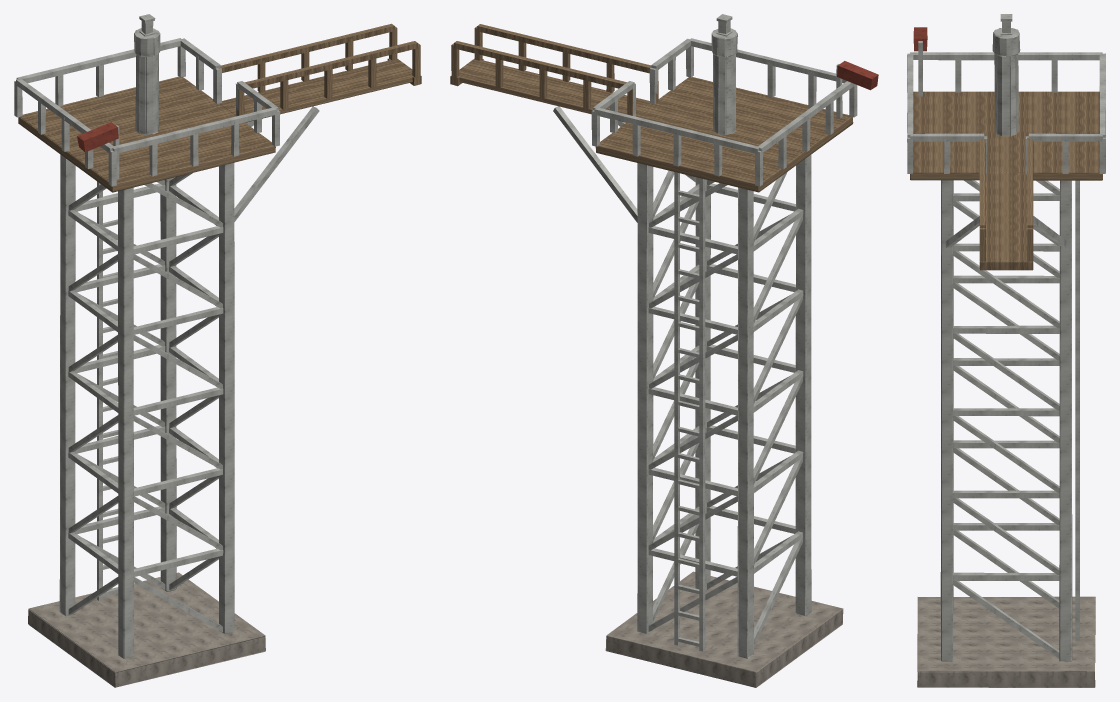
The model's file is zeppelin_dock.glb.
The picture shows the model from 3 angles, left to right: view 1: azimuth 30°, elevation 25°; view 2: azimuth 150°, elevation 25°; view 3: azimuth 270°, elevation 25°; orthographic projection. The views are drawn at different scales.
Visible parts, largest first — view 1: ZeppelinDock, Gangway; view 2: ZeppelinDock, Gangway; view 3: ZeppelinDock, Gangway.
Boxes of the visible parts, <box> form: ZeppelinDock: <box>14,14,319,687</box>; Gangway: <box>213,23,421,122</box>; ZeppelinDock: <box>553,14,878,687</box>; Gangway: <box>450,24,658,122</box>; ZeppelinDock: <box>907,14,1105,687</box>; Gangway: <box>979,137,1033,270</box>.
Size of the model in its own units: 8.25 by 13.22 by 3.76.
4 materials, 4 textured.
